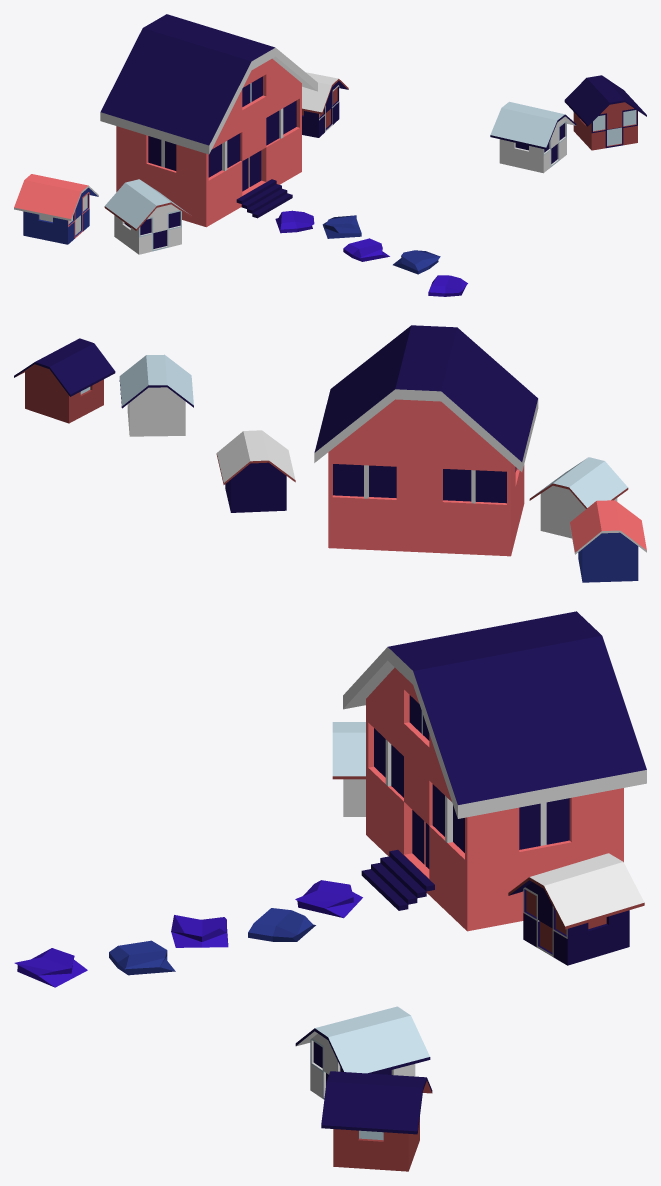
The model's file is inthouse.glb.
3 renders of one model, top to bottom at view 1: azimuth 30°, elevation 25°; view 2: azimuth 150°, elevation 25°; view 3: azimuth 270°, elevation 25°, orthographic. The views are drawn at different scales.
Parts seen in each view (by area): view 1: House, ExtraHouses, Rock; view 2: House, ExtraHouses; view 3: House, ExtraHouses, Rock.
Boxes of the visible parts, x1=… form: House: x1=100, y1=14, x2=317, y2=227; ExtraHouses: x1=14, y1=72, x2=646, y2=254; Rock: x1=275, y1=210, x2=467, y2=296; House: x1=314, y1=325, x2=538, y2=556; ExtraHouses: x1=14, y1=338, x2=646, y2=582; House: x1=343, y1=611, x2=646, y2=931; ExtraHouses: x1=295, y1=722, x2=644, y2=1171; Rock: x1=14, y1=880, x2=362, y2=987.
Size of the model in its own units: 6.67 by 1.85 by 4.07.
